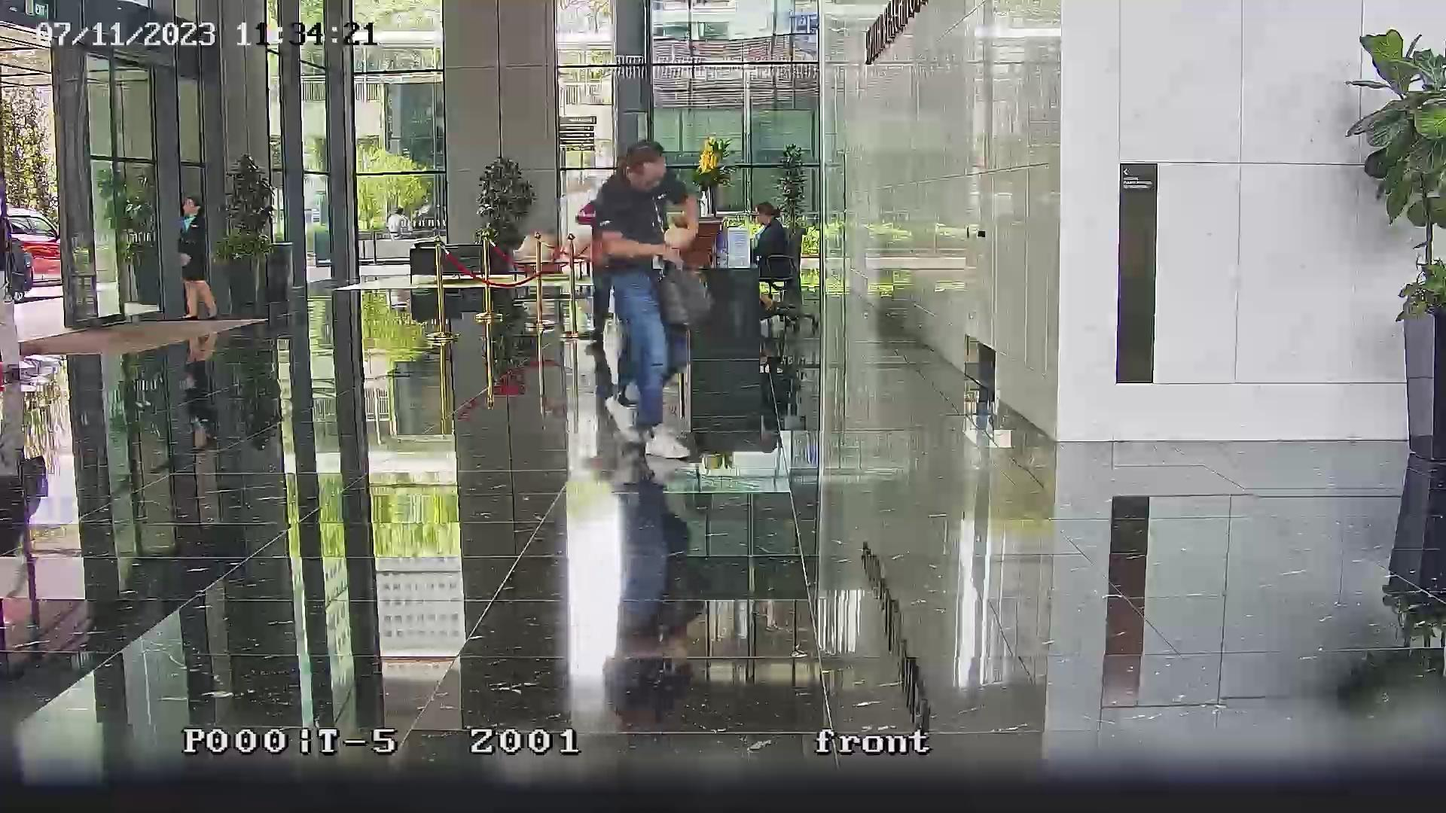person: (591, 139, 700, 458), (178, 195, 219, 320), (576, 201, 611, 343), (0, 213, 24, 381), (751, 200, 790, 274), (387, 207, 417, 239)
